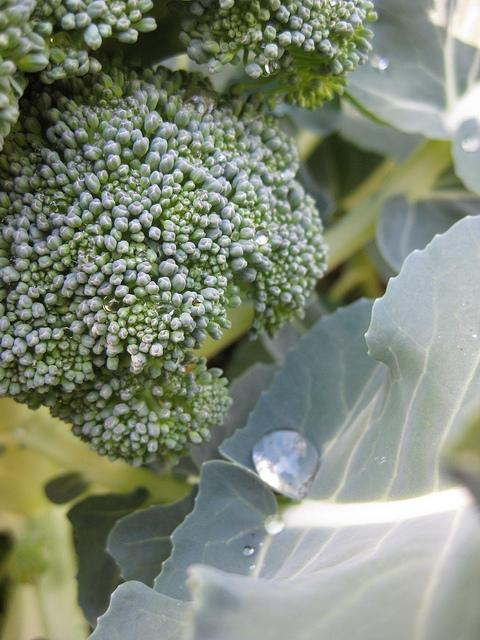broccoli: (320, 0, 480, 294), (0, 0, 157, 152), (166, 1, 378, 112)
